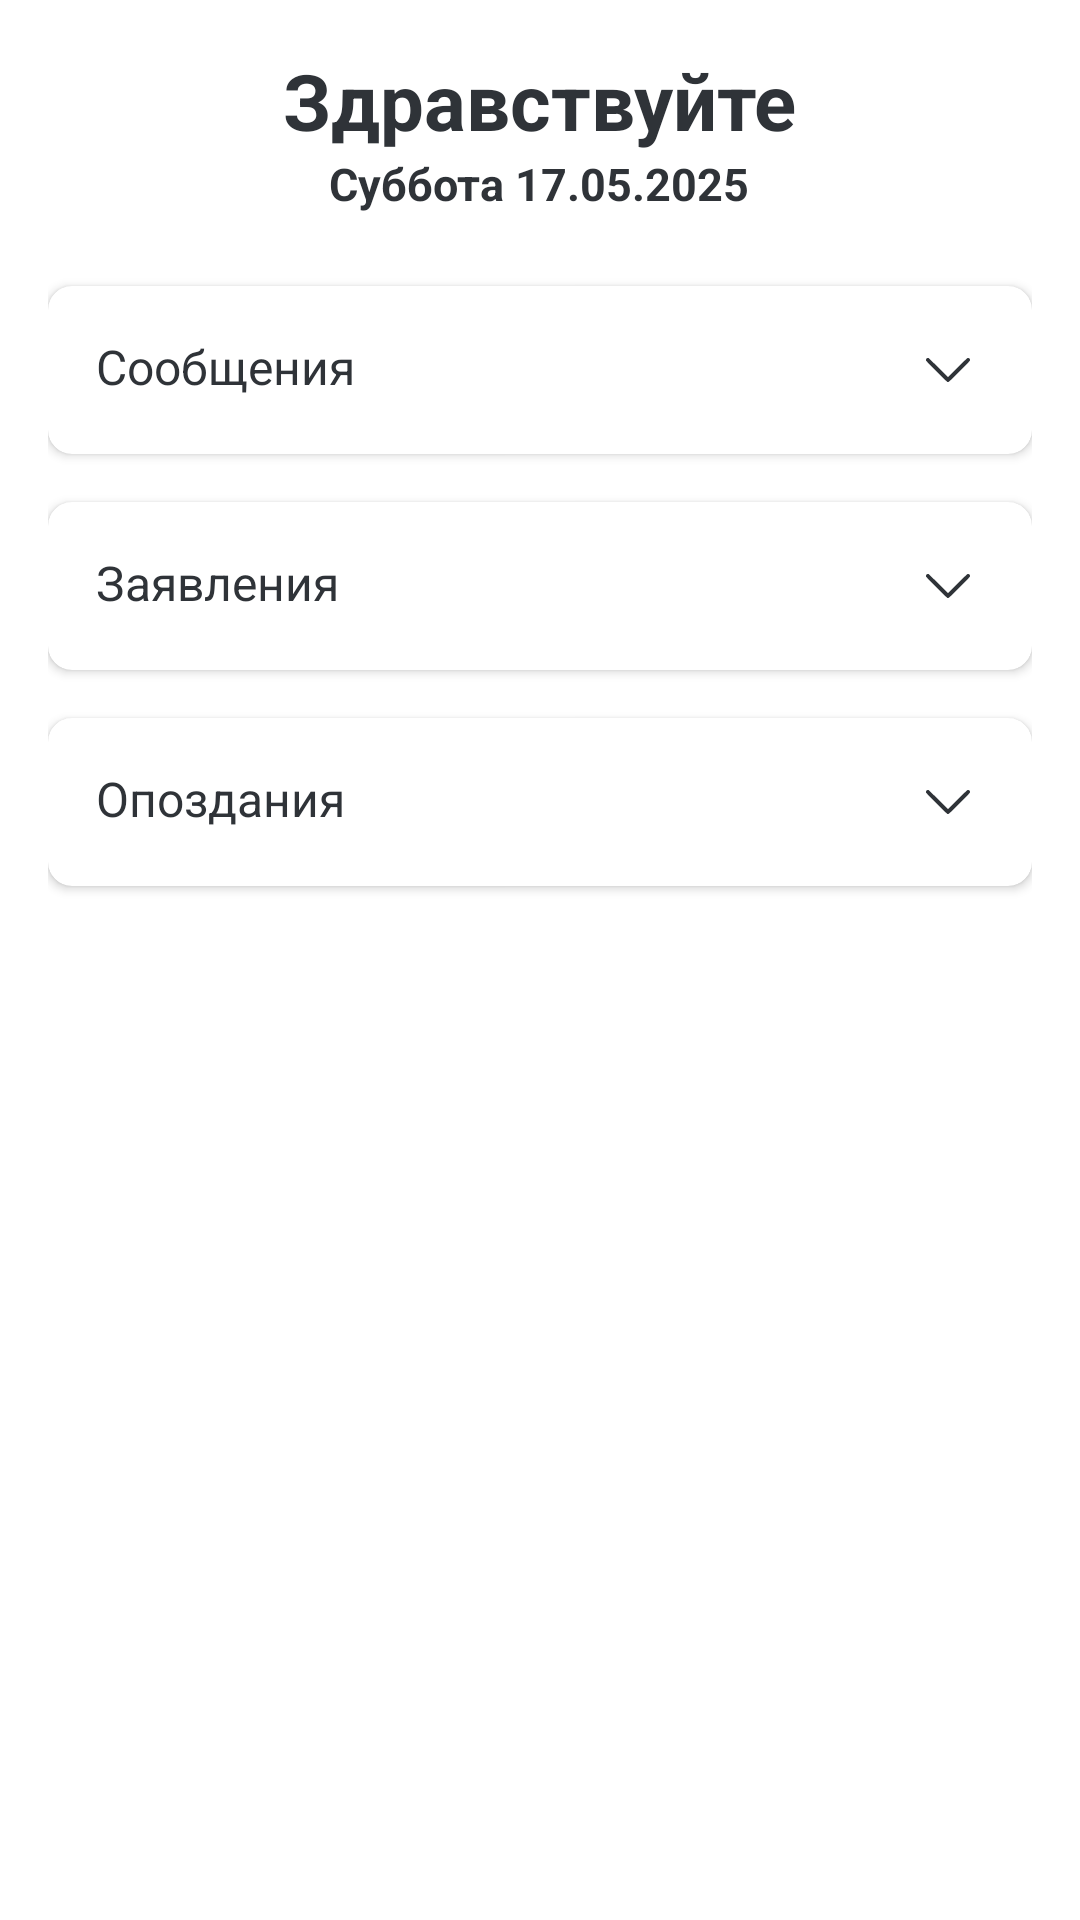

Icons on this 1080w x 1920h Android screen, each with the point to tap as [x,y]:
down arrow: [948,370], [948,586], [948,802]
